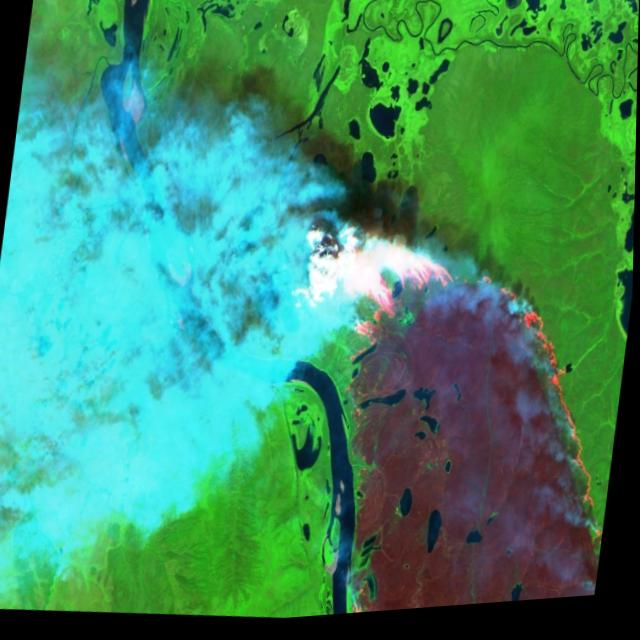fire: (248, 196, 636, 625)
